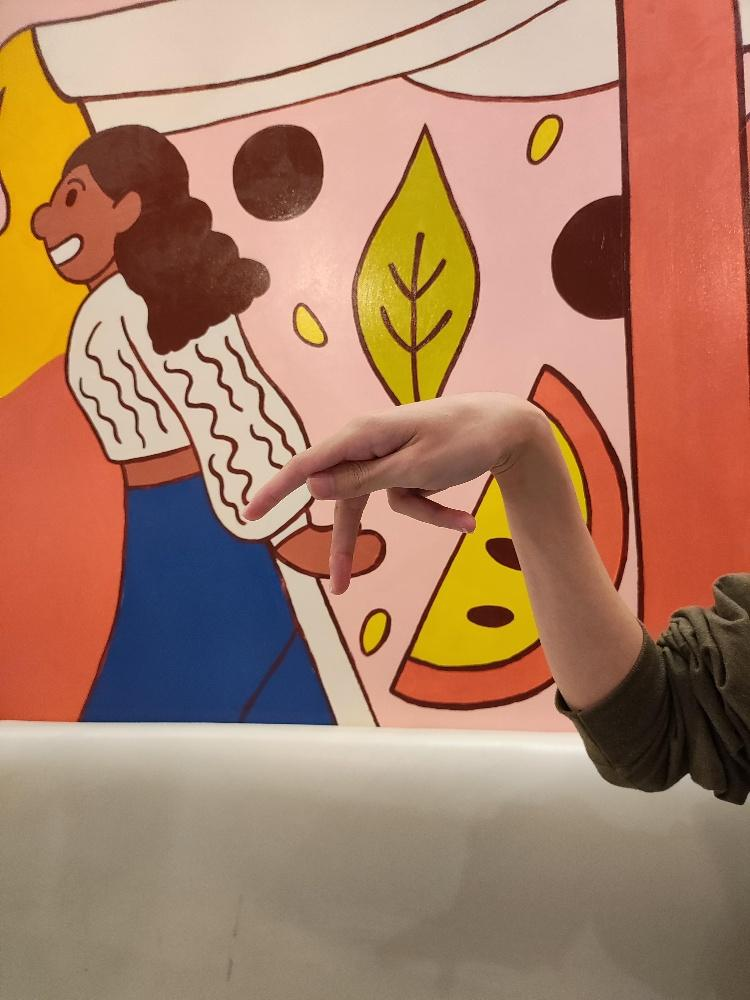p: (236, 387, 515, 597)
